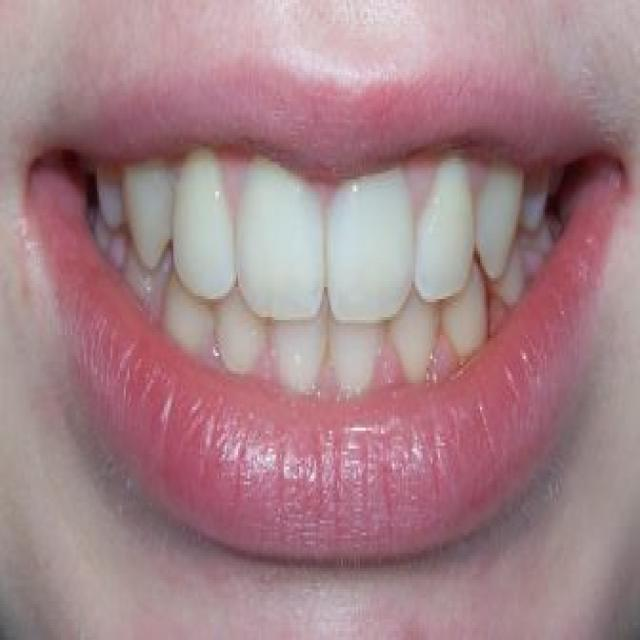tooth: (236, 167, 332, 323), (330, 165, 415, 308), (179, 156, 246, 287), (421, 165, 480, 305), (74, 224, 164, 305), (270, 290, 326, 386), (128, 156, 172, 266), (440, 257, 488, 356), (476, 162, 520, 269), (331, 308, 381, 392), (215, 299, 265, 377), (389, 305, 440, 380), (168, 284, 212, 356), (514, 168, 556, 234), (88, 153, 126, 225), (520, 224, 550, 269), (499, 260, 524, 305)
